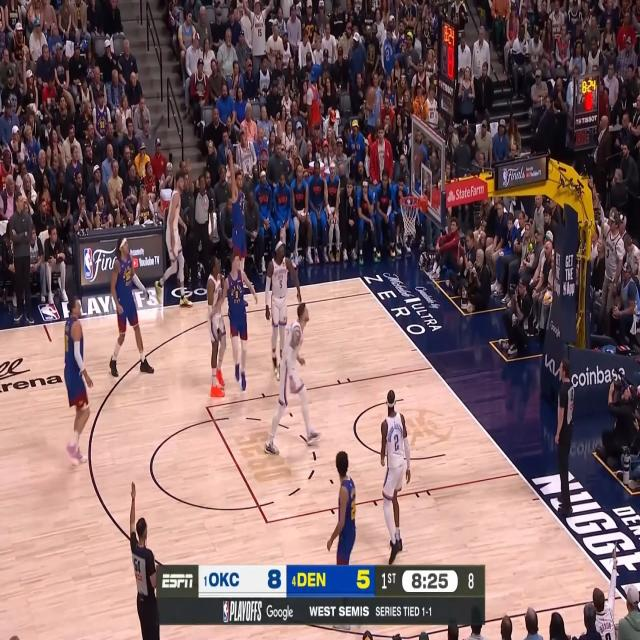ball: (364, 86, 377, 108)
number: (394, 434, 399, 452), (125, 270, 131, 281), (279, 279, 283, 289), (236, 290, 238, 299)
player: (262, 302, 322, 457), (208, 251, 258, 390), (109, 237, 155, 375), (379, 389, 412, 565), (326, 449, 357, 632), (62, 297, 93, 467), (265, 240, 301, 383), (155, 175, 193, 308), (228, 150, 249, 308), (206, 255, 227, 399)
referee: (128, 479, 160, 640), (186, 157, 214, 296), (554, 358, 575, 516)
rim: (399, 195, 422, 208)
